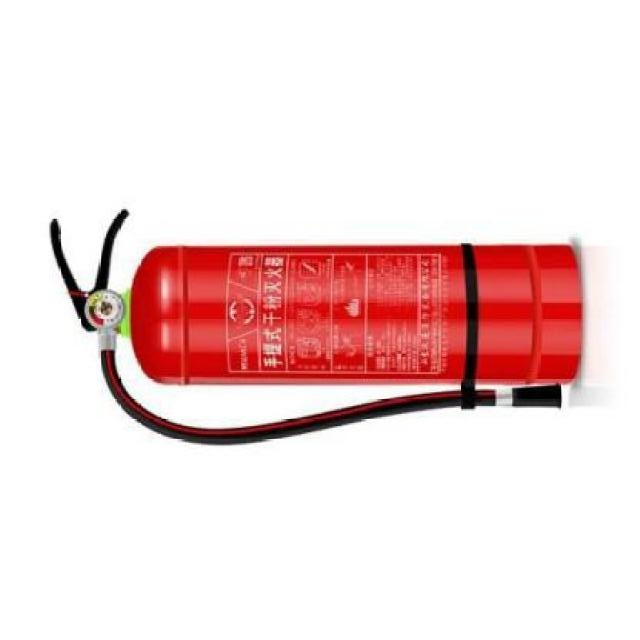fire extinguisher: (48, 208, 583, 446)
